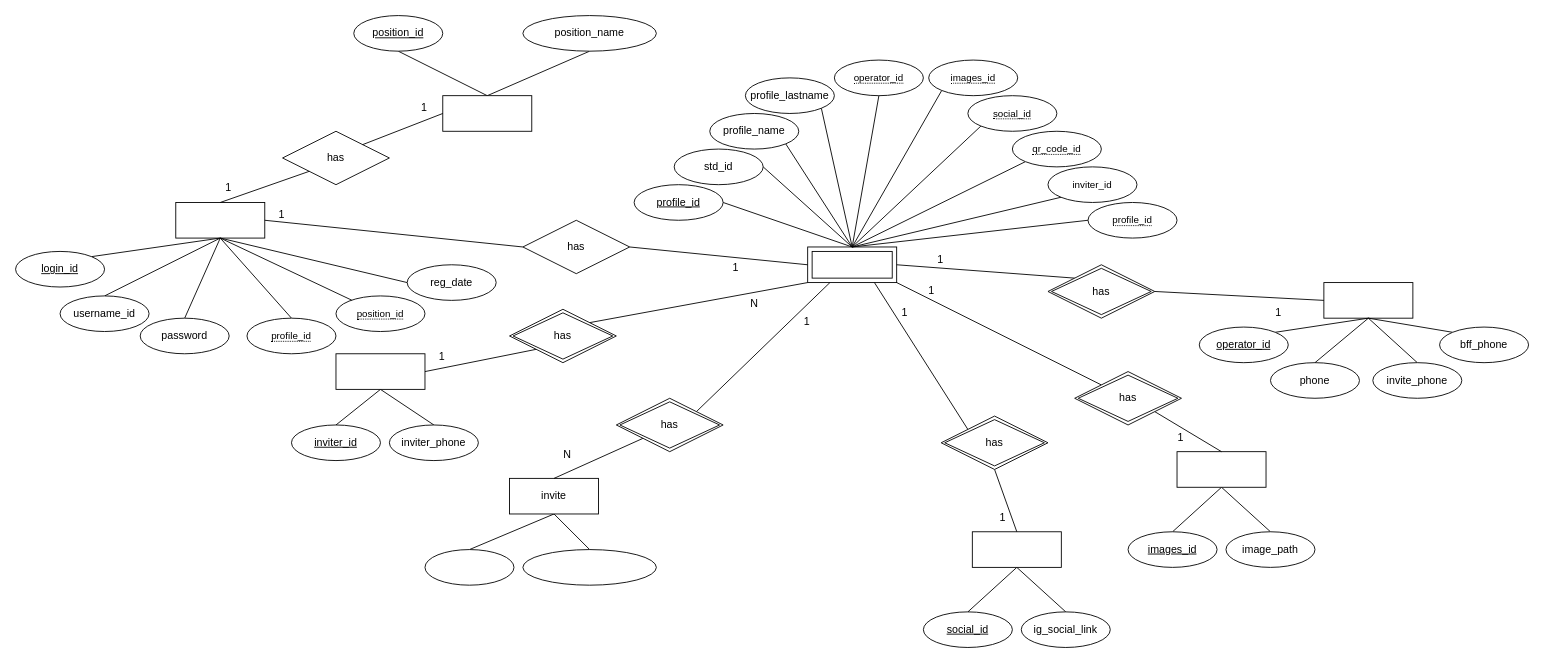
Image size: 1544x663. Some labels were removed from this diagram. The centre of each missing label's shape, as x and y in pixels:
images: the point at 1221,469
invite_list_id: the point at 469,567
invite_member_phone: the point at 589,567
inviter: the point at 380,371
login: the point at 220,220
operator: the point at 1368,300
position: the point at 487,113
profile: the point at 852,264
social: the point at 1016,549
